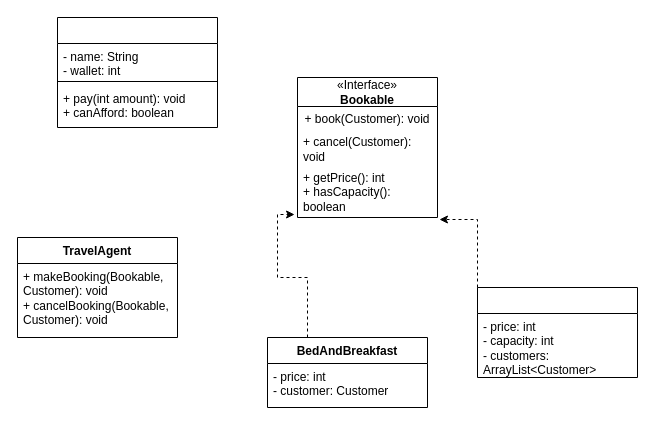
The diagram is 655 pixels wide and 428 high, and some of its shapes have lost their labels. Each missing label, with the box of its shape:
Customer: (56, 16, 218, 128)
Train: (476, 286, 638, 378)
